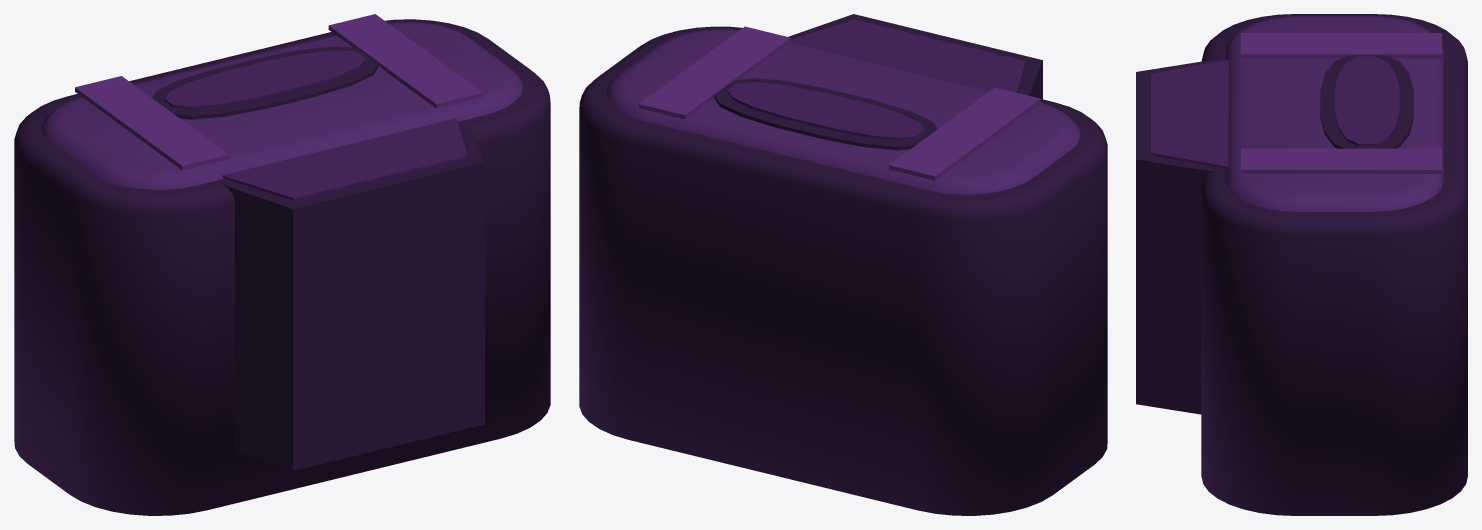
The model's file is bag_padrao_roxa.fbx.
The picture shows the model from 3 angles, left to right: view 1: azimuth 30°, elevation 25°; view 2: azimuth 150°, elevation 25°; view 3: azimuth 270°, elevation 25°; orthographic projection. The views are drawn at different scales.
Parts seen in each view (by area): view 1: bag_padrao_roxa_mochila; view 2: bag_padrao_roxa_mochila; view 3: bag_padrao_roxa_mochila.
Boxes of the visible parts, left/top/right/bottom form: bag_padrao_roxa_mochila: left=14, top=14, right=550, bottom=515; bag_padrao_roxa_mochila: left=579, top=14, right=1107, bottom=515; bag_padrao_roxa_mochila: left=1136, top=14, right=1467, bottom=515.
Size of the model in its own units: 2.8 by 1.9 by 1.84.
1 material, 1 textured.
